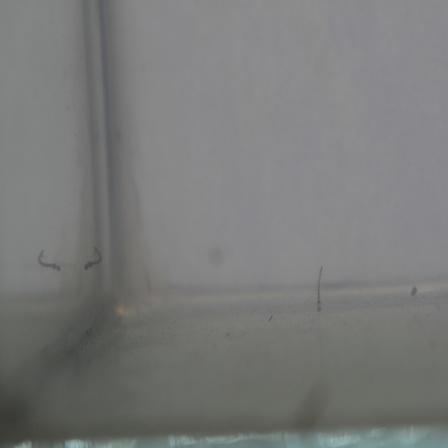Jentik-Nyamuk: (312, 263, 329, 314), (83, 243, 107, 271)
